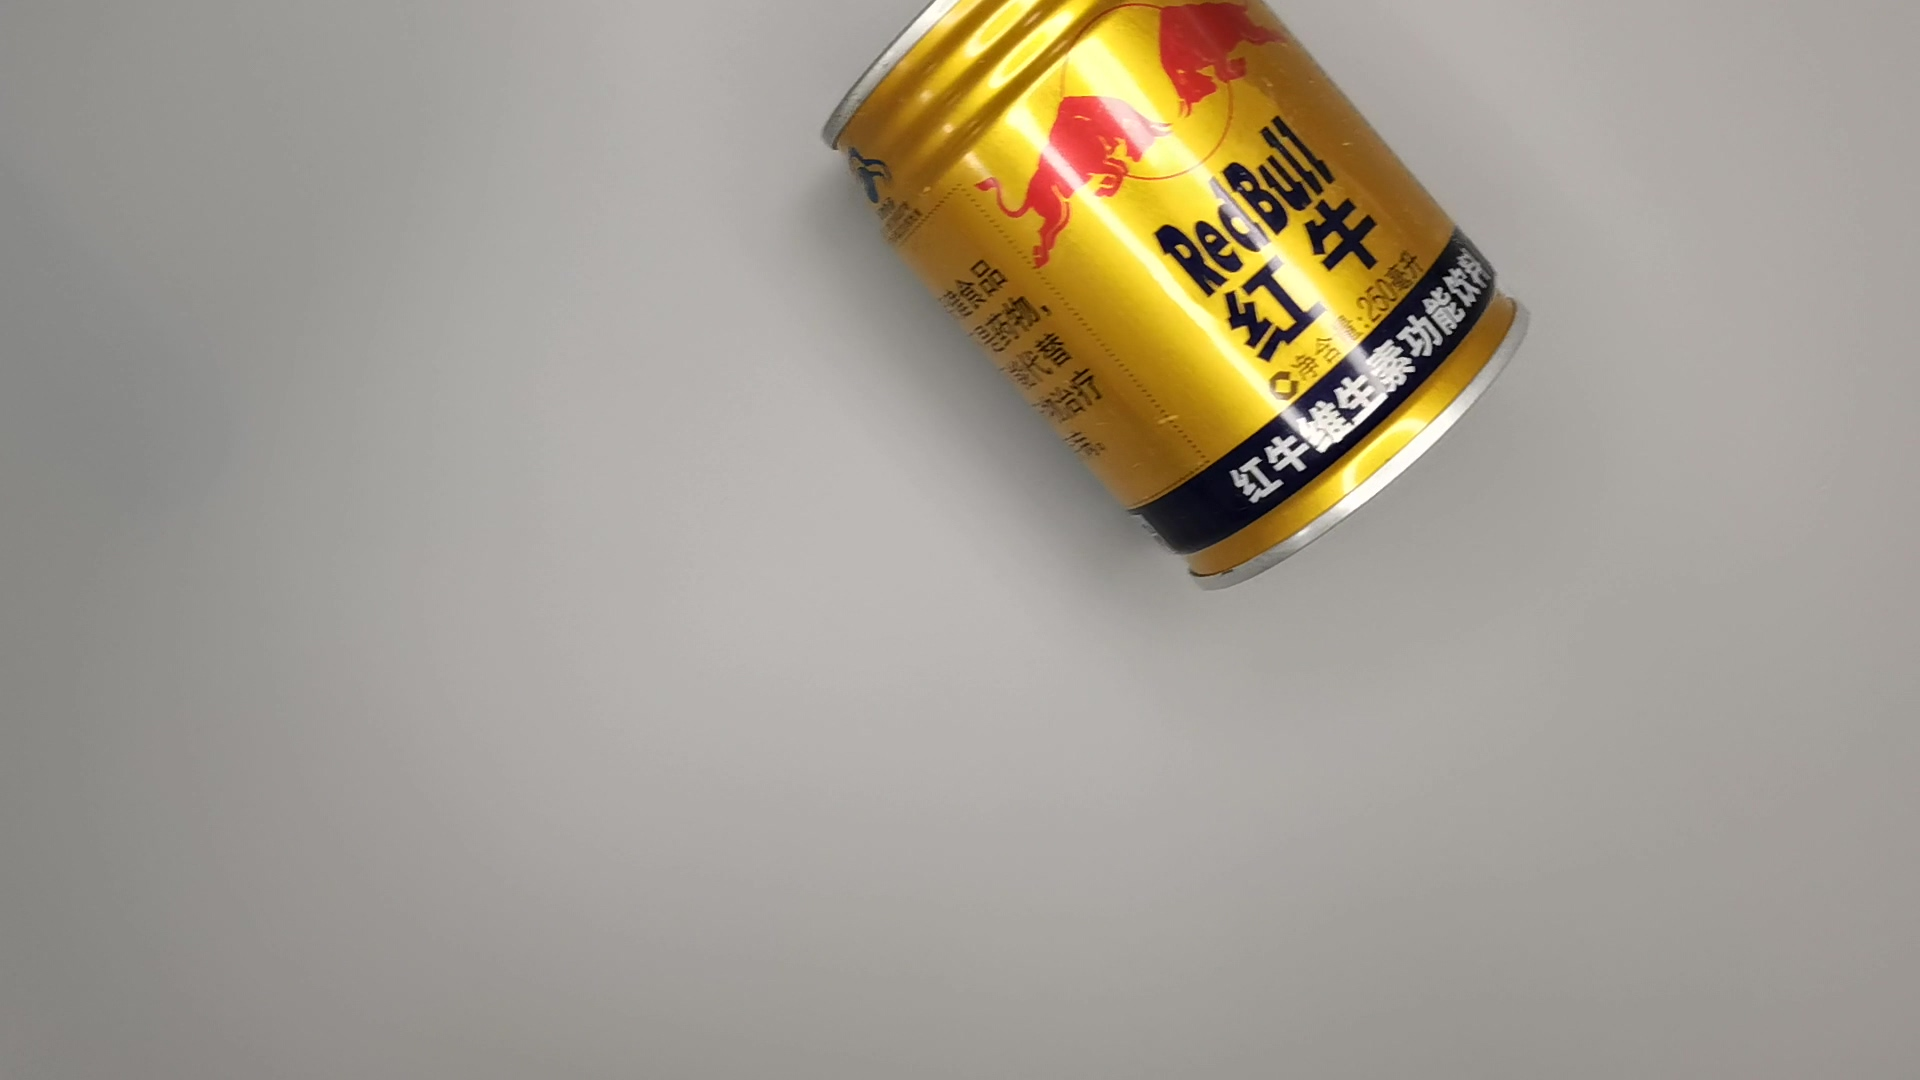can: (818, 1, 1542, 607)
